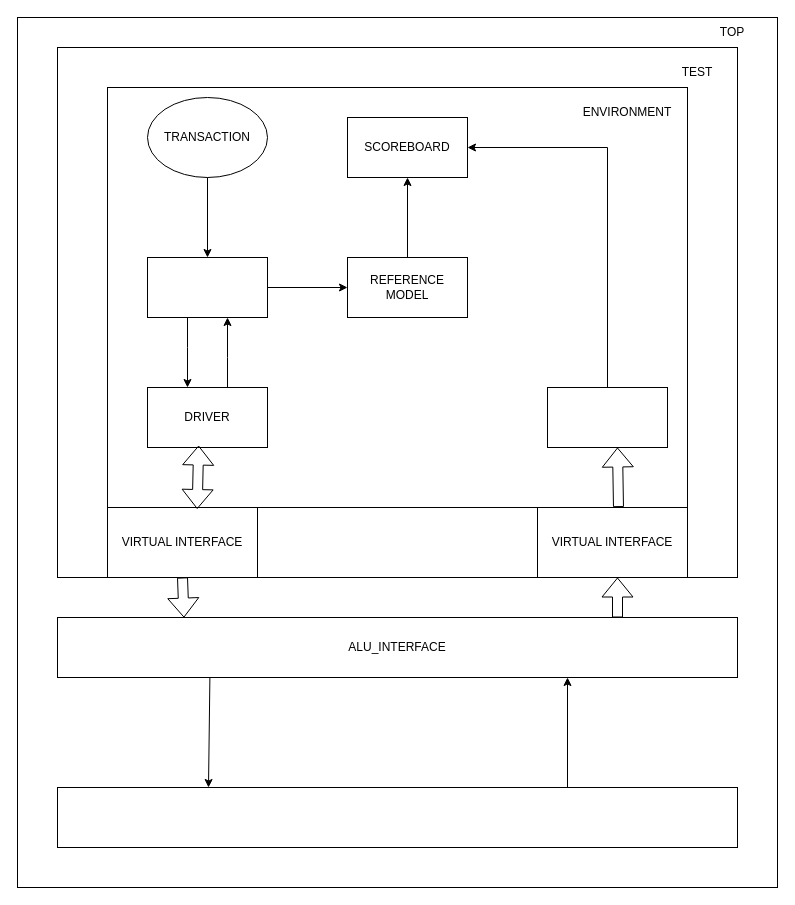
This 795x905 diagram has some shape labels left out. The shapes that lost their labels are listed below. From the top down, each one's centre as x and y in pixels, then its label:
At (x=207, y=287): "GENERATOR".
At (x=607, y=417): "MONITOR".
At (x=397, y=817): "ALU_DESIGN".
